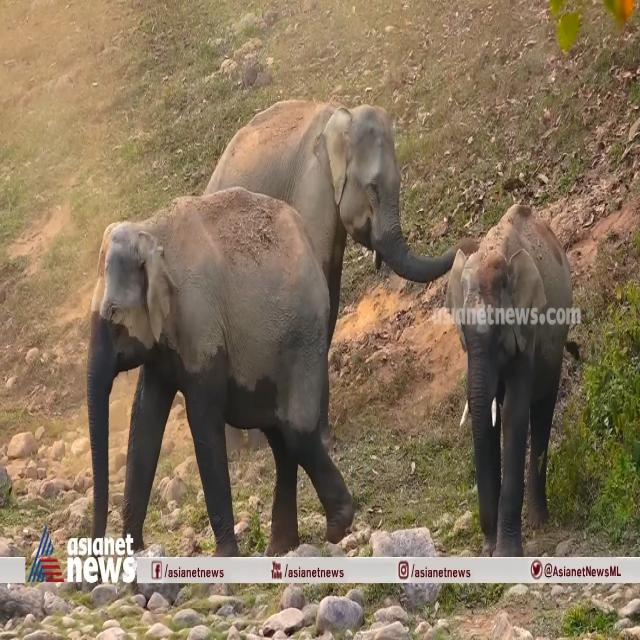ELEPHANT: (83, 178, 362, 538)
